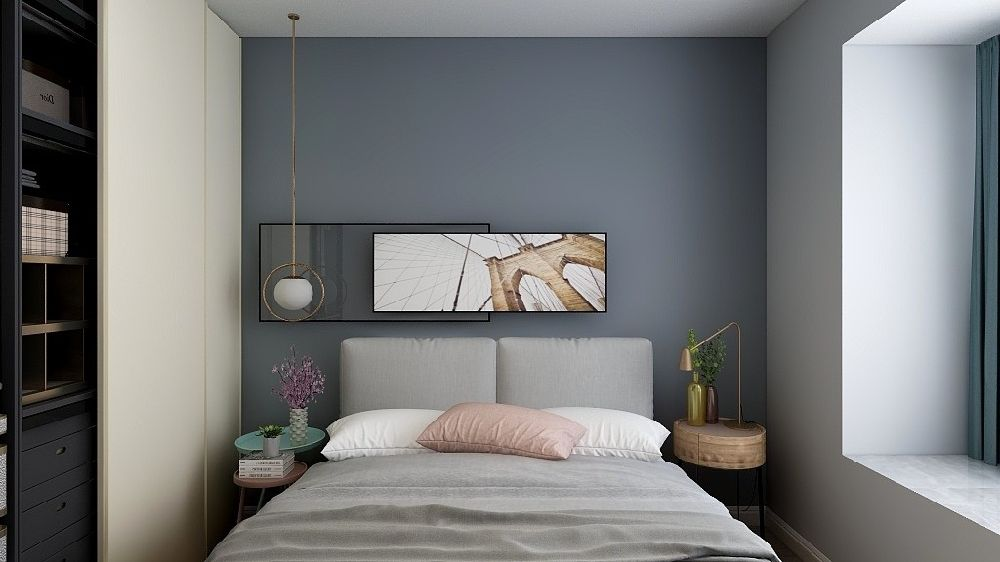床: (210, 442, 788, 555)
枕头: (320, 402, 677, 471)
灯: (678, 317, 757, 437), (267, 273, 318, 327)
